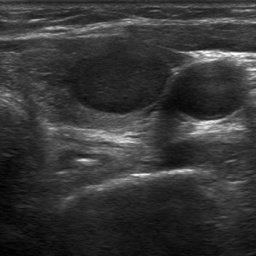mass: (66, 49, 172, 110)
